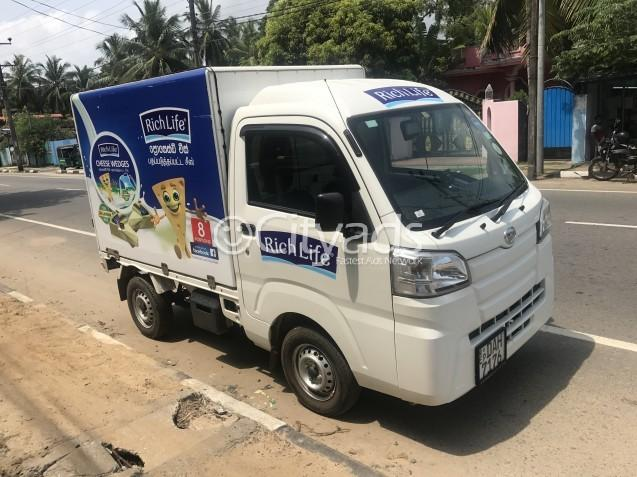motorbike: (587, 120, 637, 181)
truck: (69, 63, 555, 417)
